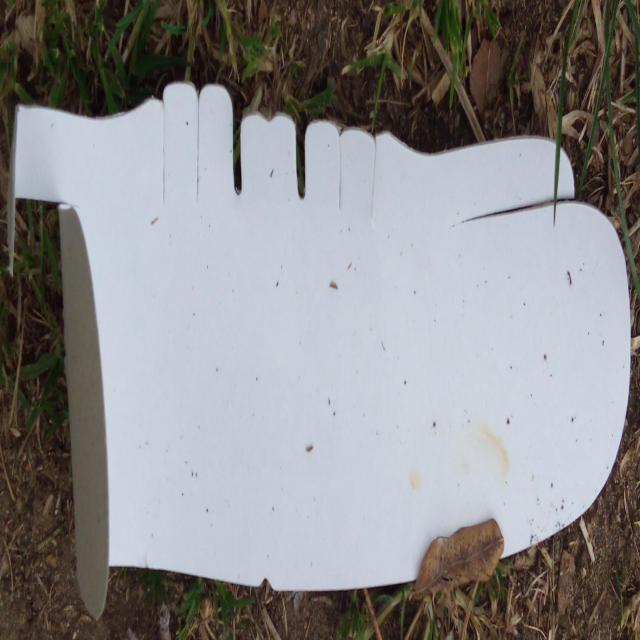litter: (7, 82, 629, 621)
